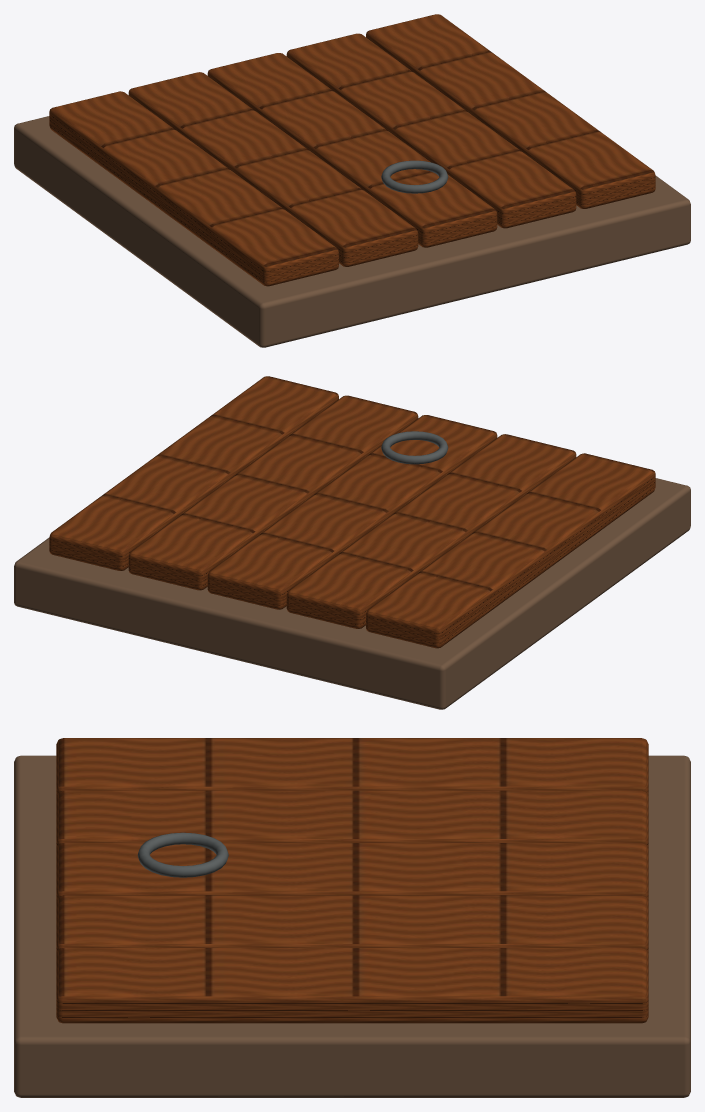
Rendered from adventurers-tavern-and-guild-hall-cellar-hatch-47baba30__24681.glb.
3 views of the same model, one above another, from view 1: azimuth 30°, elevation 25°; view 2: azimuth 150°, elevation 25°; view 3: azimuth 270°, elevation 25° (orthographic). The views are drawn at different scales.
Visible parts, largest first — view 1: hatch (×2), cellar-hatch; view 2: hatch (×2), cellar-hatch; view 3: hatch (×2), cellar-hatch.
Part boxes in pixels (box(x1,y1,x2,y2)): hatch (×2): box(49, 14, 655, 286); cellar-hatch: box(14, 116, 690, 347); hatch (×2): box(49, 376, 655, 648); cellar-hatch: box(14, 478, 690, 709); hatch (×2): box(56, 738, 648, 1023); cellar-hatch: box(14, 755, 690, 1097).
Bounding box in the file's own units: 1.2 × 0.211 × 1.2.
Materials: 3 (1 with a texture image).
